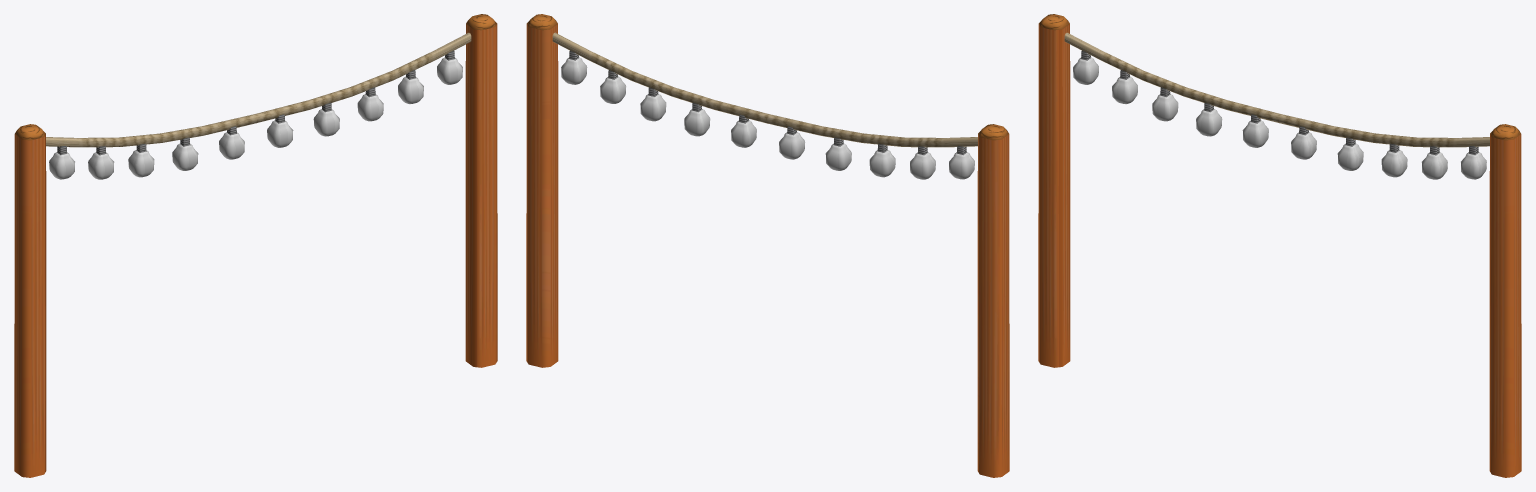
The model's file is FestoonLightHand.fbx.
3 views of the same model, side by side, from view 1: azimuth 30°, elevation 25°; view 2: azimuth 150°, elevation 25°; view 3: azimuth 330°, elevation 25° (orthographic).
Visible parts, largest first — view 1: FestoonLights (1); view 2: FestoonLights (1); view 3: FestoonLights (1).
Part boxes in pixels (<box>): FestoonLights (1): <box>14,14,497,477</box>; FestoonLights (1): <box>526,14,1009,477</box>; FestoonLights (1): <box>1038,14,1521,477</box>.
Size of the model in its own units: 1.57 by 1.08 by 0.0792.
